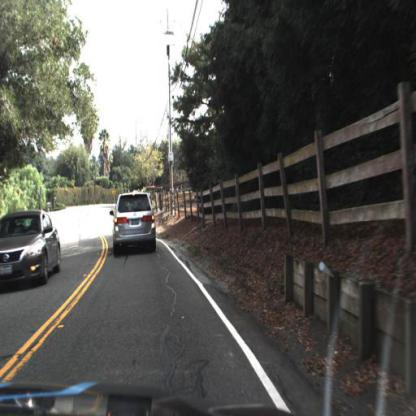car: (102, 178, 163, 270)
